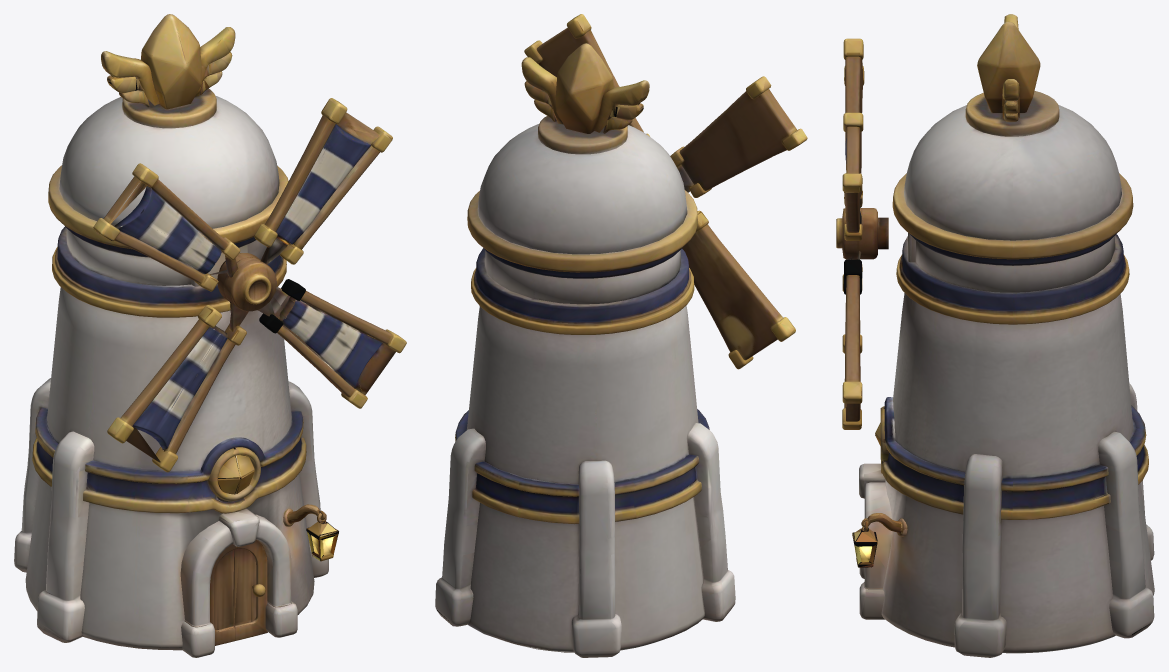
Rendered from windmill_2k.glb.
The picture shows the model from 3 angles, left to right: view 1: azimuth 30°, elevation 25°; view 2: azimuth 150°, elevation 25°; view 3: azimuth 270°, elevation 25°; orthographic projection. The views are drawn at different scales.
Parts seen in each view (by area): view 1: windmillBody, windBlades; view 2: windmillBody, windBlades; view 3: windmillBody, windBlades.
Boxes of the visible parts, <box> form: windmillBody: <box>14,14,338,657</box>; windBlades: <box>93,98,406,472</box>; windmillBody: <box>435,43,735,657</box>; windBlades: <box>524,14,807,369</box>; windmillBody: <box>852,14,1154,657</box>; windBlades: <box>836,38,888,429</box>.
Size of the model in its own units: 0.5513 by 1.02 by 0.5024.
Materials: 2 (2 with a texture image).
